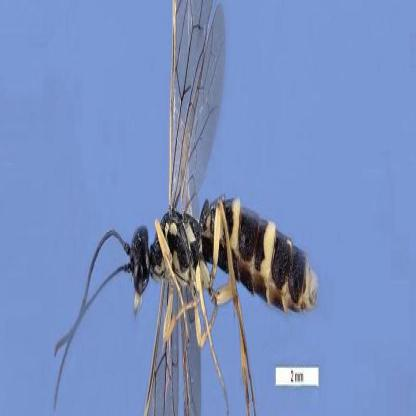sawfly: (51, 3, 319, 416)
